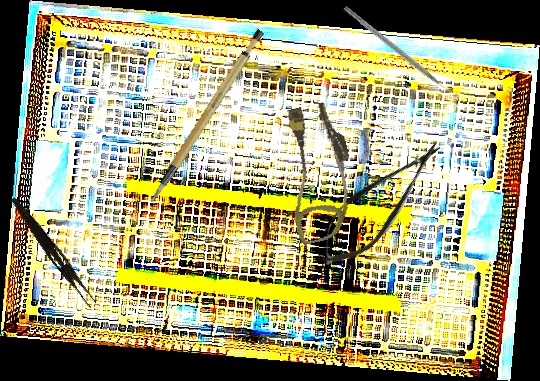Cannula: (270, 99, 367, 246)
Dressing Forceps: (5, 195, 101, 309)
Hook Surgical: (342, 5, 458, 100)
Micro Scissor: (304, 127, 456, 278)
Scalpel Handle: (123, 26, 286, 204)
